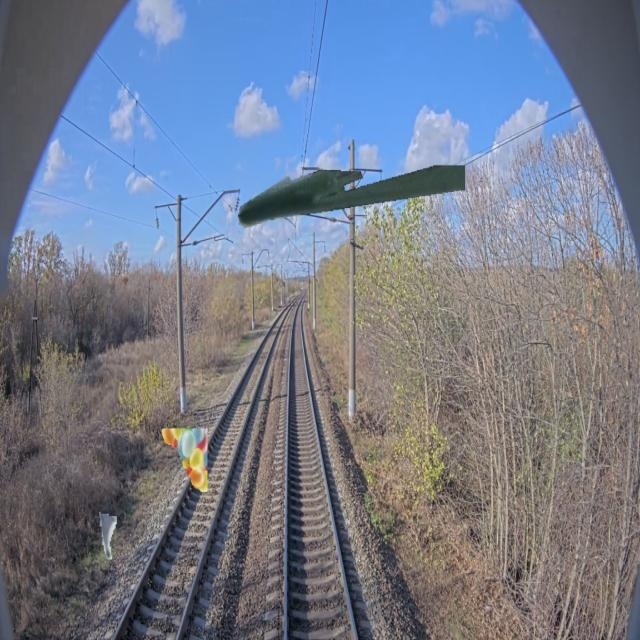balloon: (162, 428, 207, 492)
floating object: (238, 166, 465, 230), (98, 497, 117, 561)
